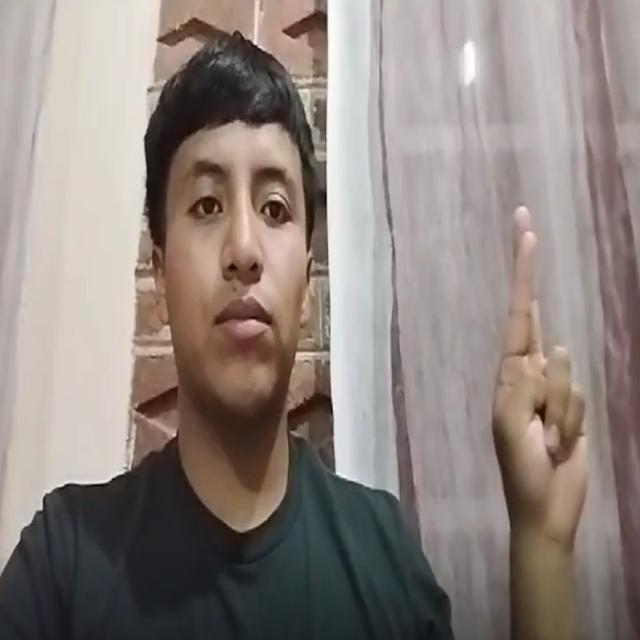R: (450, 165, 616, 552)
